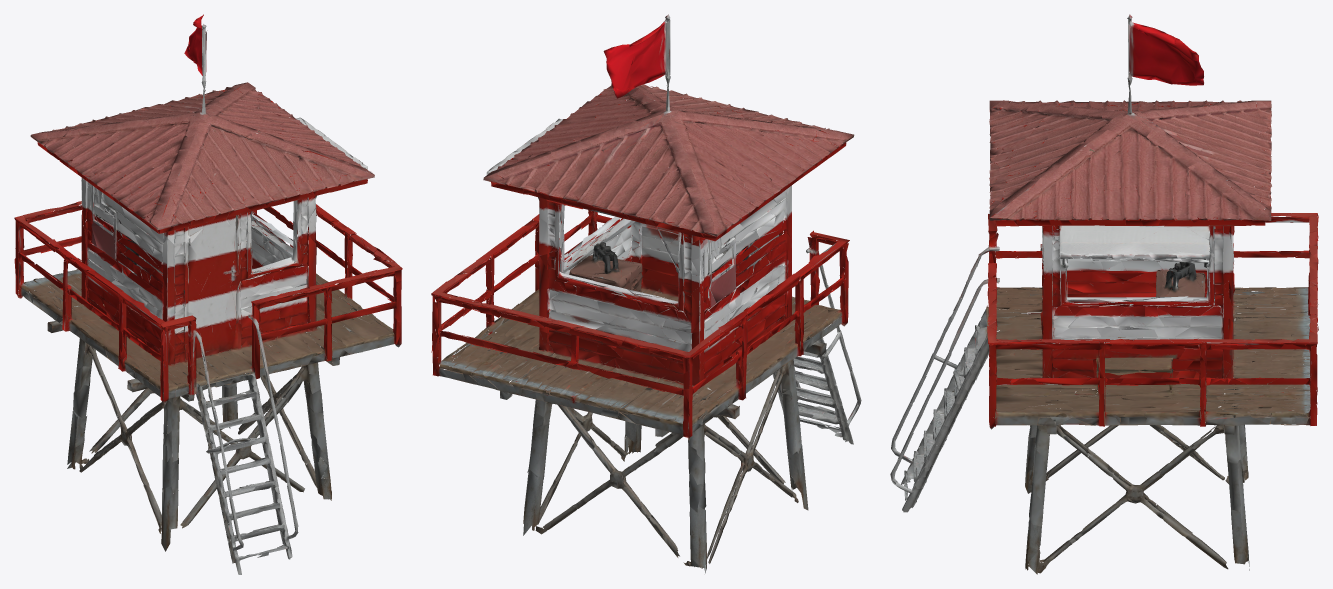
Rendered from posto-salva-vidas__01a16c1b.glb.
The picture shows the model from 3 angles, left to right: view 1: azimuth 30°, elevation 25°; view 2: azimuth 150°, elevation 25°; view 3: azimuth 270°, elevation 25°; orthographic projection. The views are drawn at different scales.
Visible parts, largest first — view 1: posto-salva-vidas; view 2: posto-salva-vidas; view 3: posto-salva-vidas.
Part boxes in pixels (bbox=[...]): posto-salva-vidas: bbox=[14, 14, 402, 574]; posto-salva-vidas: bbox=[431, 14, 861, 573]; posto-salva-vidas: bbox=[890, 14, 1318, 574].
Bounding box in the file's own units: 2.36 × 4.34 × 3.21.
1 material, 1 textured.
